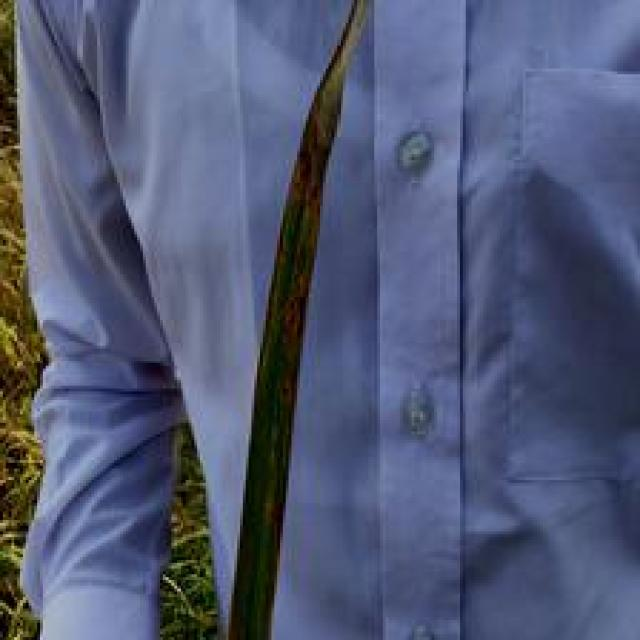Bacterial_Leaf_Blight: (254, 14, 357, 477)
